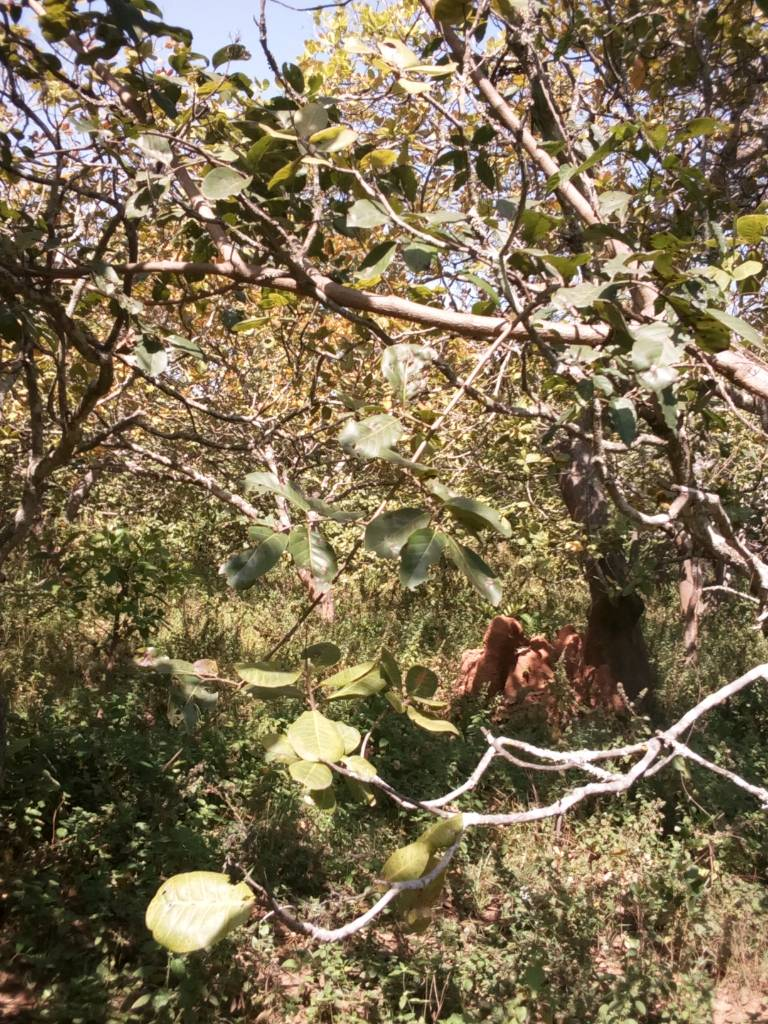Termites: (471, 614, 597, 708)
